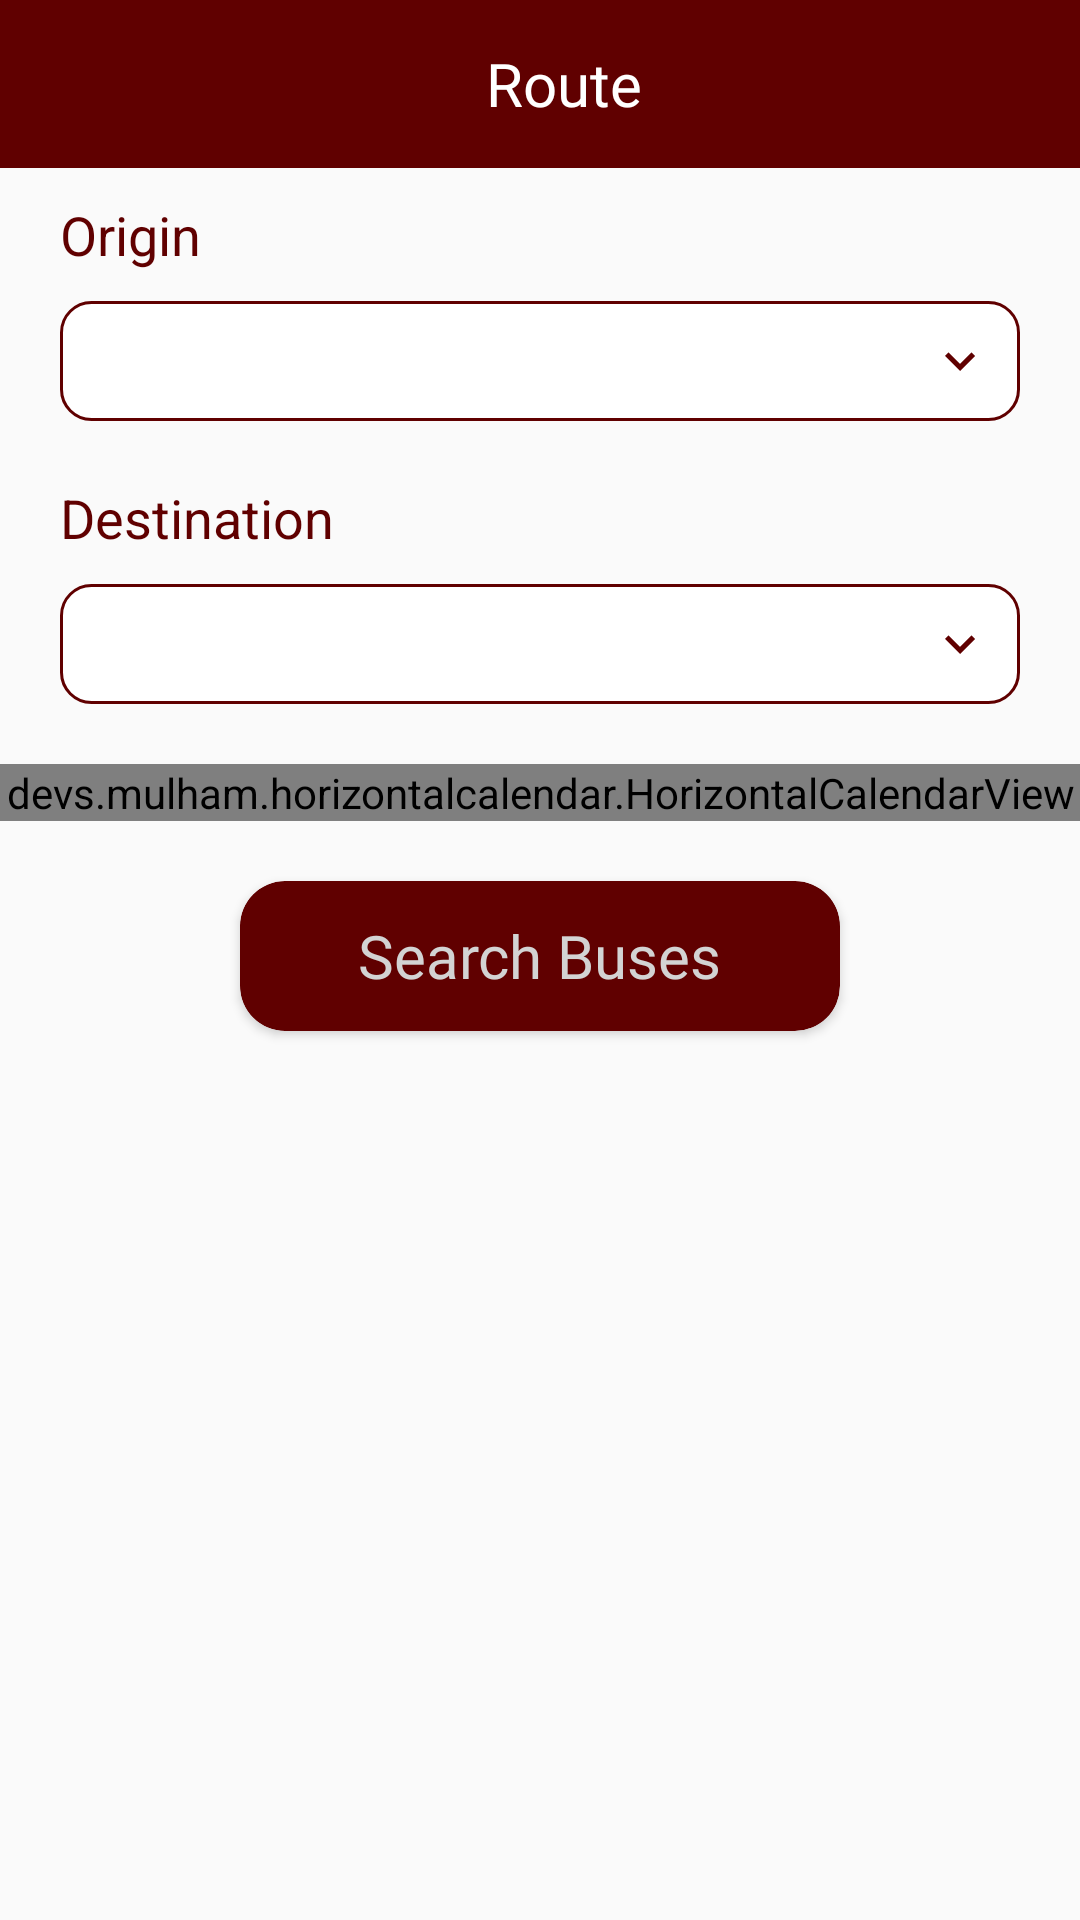

Icon click points for this 1080px×1920px phone screenshot, format (x=x, y=y):
down: (x=960, y=361), (x=960, y=644)
